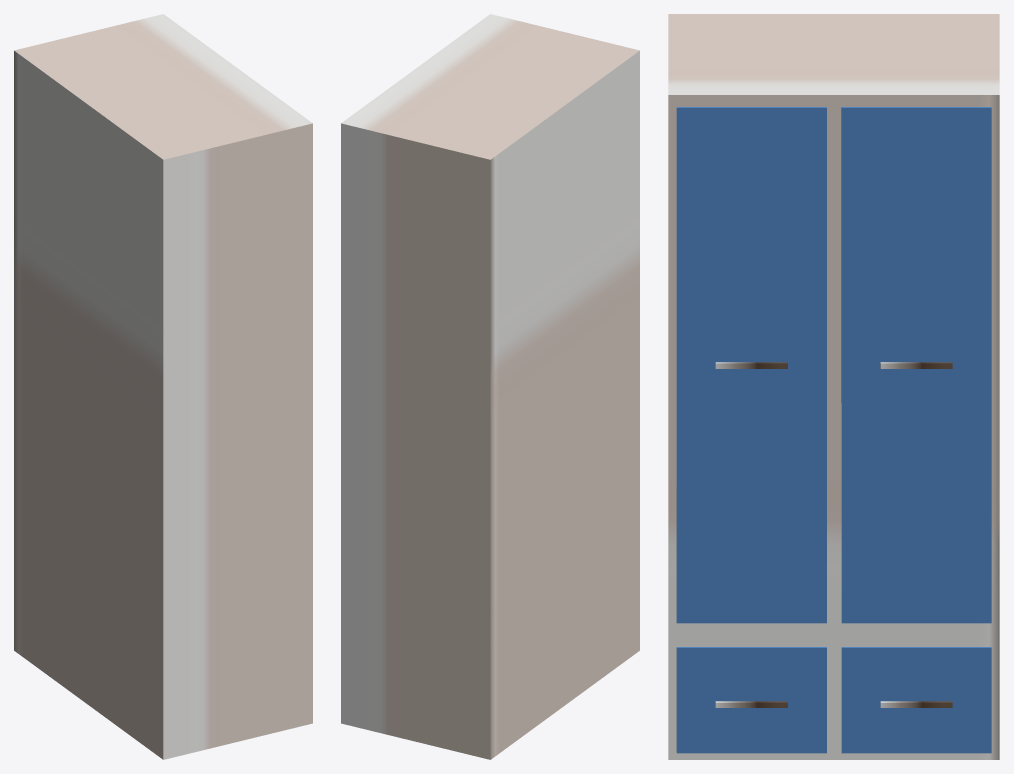
File: Childroom2_cupboard.fbx
3 renders of one model, left to right at view 1: azimuth 30°, elevation 25°; view 2: azimuth 150°, elevation 25°; view 3: azimuth 270°, elevation 25°, orthographic. The views are drawn at different scales.
Visible parts, largest first — view 1: Childroom2_cupboard; view 2: Childroom2_cupboard; view 3: Childroom2_cupboard.
Boxes of the visible parts, x1,y1,x2,y2 form: Childroom2_cupboard: [14, 14, 312, 759]; Childroom2_cupboard: [341, 14, 639, 759]; Childroom2_cupboard: [668, 14, 999, 759].
Size of the model in its own units: 82.03 by 306 by 138.
